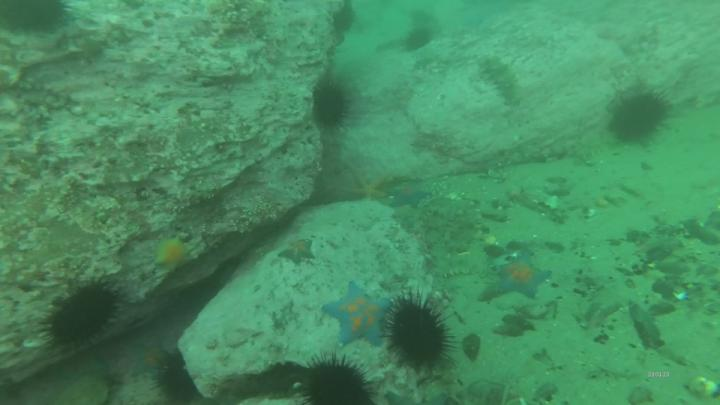echinus: (53, 285, 119, 344), (392, 302, 447, 364), (305, 364, 369, 405), (614, 95, 666, 142), (1, 1, 61, 34), (162, 356, 195, 405), (317, 86, 347, 129)
holothurian: (478, 56, 524, 107), (434, 252, 485, 279)
starfish: (324, 283, 389, 349), (500, 255, 548, 299), (134, 344, 169, 382), (155, 238, 193, 271), (346, 176, 385, 203), (391, 185, 430, 208), (280, 241, 317, 265)
